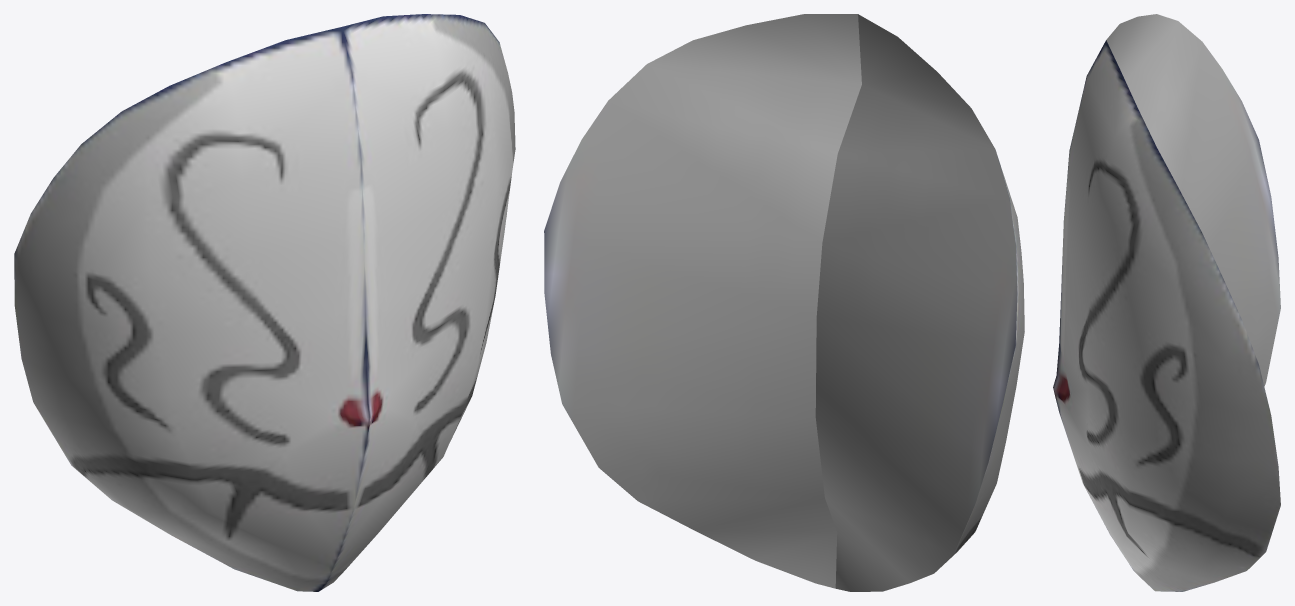
File: mask.fbx
3 renders of one model, left to right at view 1: azimuth 30°, elevation 25°; view 2: azimuth 150°, elevation 25°; view 3: azimuth 270°, elevation 25°, orthographic. The views are drawn at different scales.
Visible parts, largest first — view 1: RimuruTempestMask; view 2: RimuruTempestMask; view 3: RimuruTempestMask.
Part boxes in pixels (x1,y1,x2,y2): RimuruTempestMask: (14,14,515,591); RimuruTempestMask: (544,14,1024,591); RimuruTempestMask: (1053,14,1280,591).
Size of the model in its own units: 196 by 222 by 84.17.
Materials: 1 (1 with a texture image).
